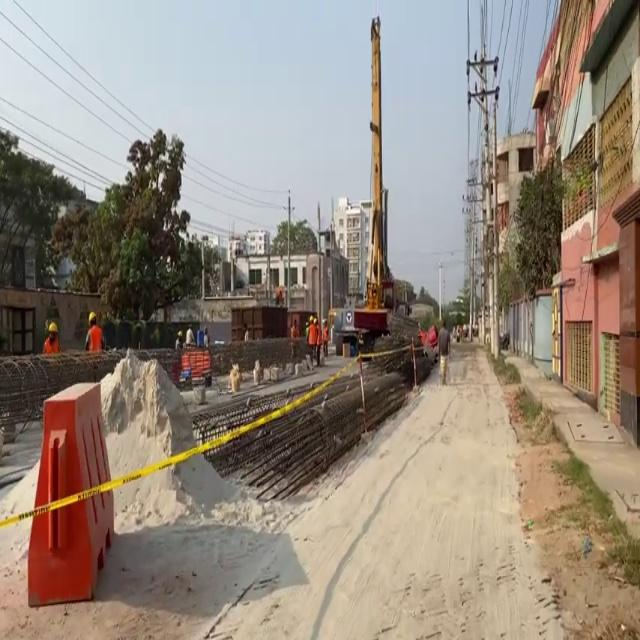Construction-barrier: (502, 351, 626, 447)
Garbage: (26, 380, 114, 606)
Garbage-bin: (84, 316, 104, 352), (42, 321, 60, 354)
Pothole: (501, 348, 639, 544)
Traffic-cone: (330, 14, 394, 355)
